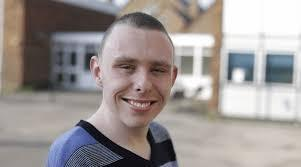person: (90, 8, 182, 129)
